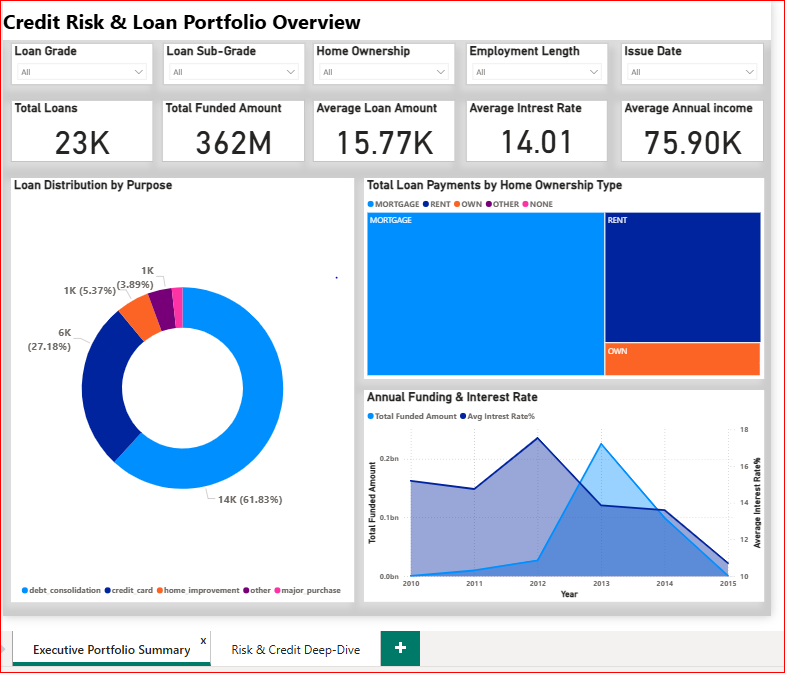

What the dashboard file says about the page in this screenshot:
{"tool":"powerbi","page":{"name":"Executive Portfolio Summary","canvas":[1280,1025],"ordinal":0},"visuals":[{"type":"card","title":"Total Loans","fields":{"Values":["XYZCorp_LendingData - Copy.Total Loans"]},"box":[13.3,165,236.7,103.3],"z":0},{"type":"card","title":"Total Funded Amount","fields":{"Values":["XYZCorp_LendingData - Copy.Total Funded Amount"]},"box":[265,165,238.3,103.3],"z":1000},{"type":"card","title":"Average Loan Amount","fields":{"Values":["XYZCorp_LendingData - Copy.Average Loan Amount"]},"box":[516.7,165,236.7,103.3],"z":2000},{"type":"card","title":"Average Annual income","fields":{"Values":["XYZCorp_LendingData - Copy.Avg Annual Income"]},"box":[1030,165,238.3,103.3],"z":3000},{"type":"card","title":"Average Intrest Rate","fields":{"Values":["XYZCorp_LendingData - Copy.Avg Intrest Rate"]},"box":[771.4,165.7,235.7,102.9],"z":4000},{"type":"shape","box":[0,0,1280,65],"z":5000},{"type":"slicer","title":"Issue Date","fields":{"Values":["XYZCorp_LendingData - Copy.issue_d.Variation.Date Hierarchy.Year","XYZCorp_LendingData - Copy.issue_d.Variation.Date Hierarchy.Quarter","XYZCorp_LendingData - Copy.issue_d.Variation.Date Hierarchy.Month","XYZCorp_LendingData - Copy.issue_d.Variation.Date Hierarchy.Day"]},"box":[1030,70,238.3,70],"z":6000},{"type":"slicer","title":"Employment Length","fields":{"Values":["XYZCorp_LendingData - Copy.emp_length"]},"box":[771.4,70,237.1,70],"z":7000},{"type":"slicer","title":"Loan Grade","fields":{"Values":["XYZCorp_LendingData - Copy.grade"]},"box":[13.3,70,236.7,70],"z":8000},{"type":"slicer","title":"Loan Sub-Grade","fields":{"Values":["XYZCorp_LendingData - Copy.sub_grade"]},"box":[266.7,70,236.7,70],"z":9000},{"type":"slicer","title":"Home Ownership","fields":{"Values":["XYZCorp_LendingData - Copy.home_ownership"]},"box":[516.7,70,236.7,70],"z":10000},{"type":"donutChart","title":"Loan Distribution by Purpose","fields":{"Category":["XYZCorp_LendingData - Copy.purpose"],"Y":["XYZCorp_LendingData - Copy.Total Loans"]},"box":[13.3,295,571.7,706.7],"z":11000},{"type":"treemap","title":"Total Loan Payments by Home Ownership Type","fields":{"Group":["XYZCorp_LendingData - Copy.home_ownership"],"Values":["Sum(XYZCorp_LendingData - Copy.total_pymnt)"]},"box":[601.7,295,666.7,335],"z":14000},{"type":"areaChart","title":"Annual Funding & Interest Rate","fields":{"Category":["XYZCorp_LendingData - Copy.issue_d.Variation.Date Hierarchy.Year"],"Y":["XYZCorp_LendingData - Copy.Total Funded Amount"],"Y2":["XYZCorp_LendingData - Copy.Avg Intrest Rate"]},"box":[601.7,648.3,666.7,353.3],"z":15000}]}

Visuals, with their boxes on the page's 1280x1025 design canvas (x1, y1, x2, y2). These are canvas units, not pixel positions in the 785x673 screenshot, which may show the page scaled, cropped or inside an application window:
"Total Loans" card: BBox(13, 165, 250, 268)
"Total Funded Amount" card: BBox(265, 165, 503, 268)
"Average Loan Amount" card: BBox(517, 165, 753, 268)
"Average Annual income" card: BBox(1030, 165, 1268, 268)
"Average Intrest Rate" card: BBox(771, 166, 1007, 269)
shape: BBox(0, 0, 1280, 65)
"Issue Date" slicer: BBox(1030, 70, 1268, 140)
"Employment Length" slicer: BBox(771, 70, 1008, 140)
"Loan Grade" slicer: BBox(13, 70, 250, 140)
"Loan Sub-Grade" slicer: BBox(267, 70, 503, 140)
"Home Ownership" slicer: BBox(517, 70, 753, 140)
"Loan Distribution by Purpose" donutChart: BBox(13, 295, 585, 1002)
"Total Loan Payments by Home Ownership Type" treemap: BBox(602, 295, 1268, 630)
"Annual Funding & Interest Rate" areaChart: BBox(602, 648, 1268, 1002)
